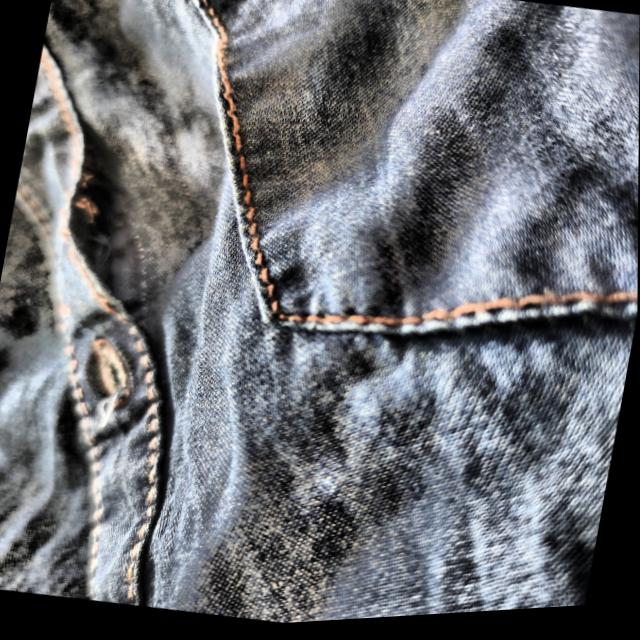seam: (31, 98, 188, 342)
